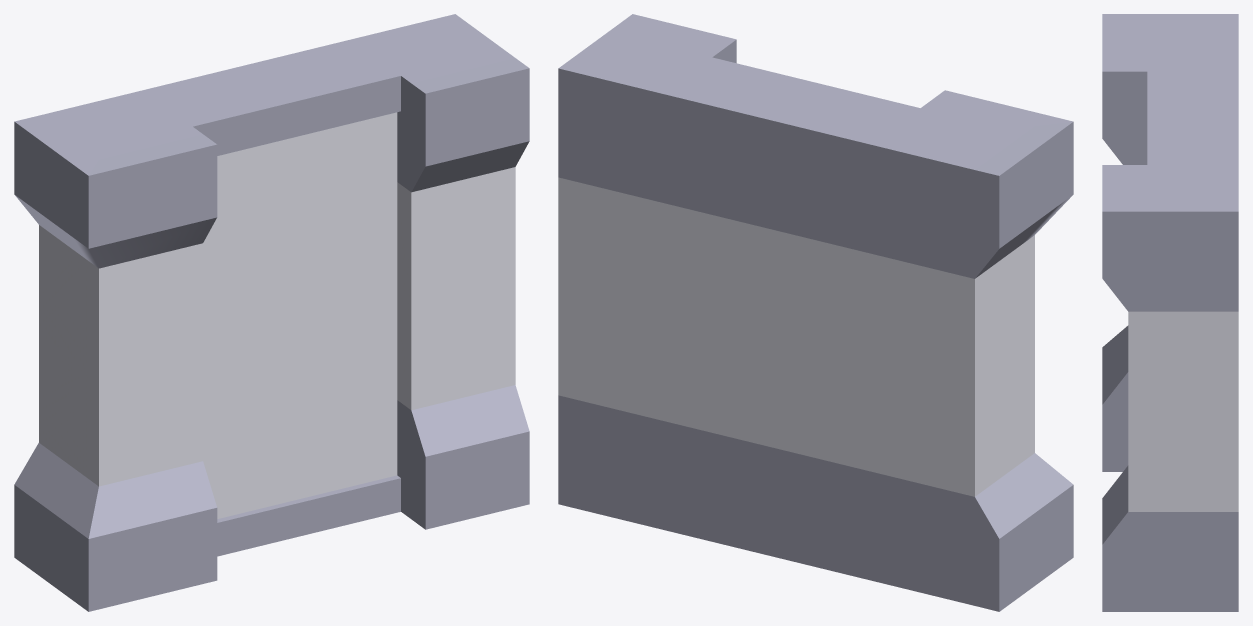
File: Wall_2.fbx
3 views of the same model, side by side, from view 1: azimuth 30°, elevation 25°; view 2: azimuth 150°, elevation 25°; view 3: azimuth 270°, elevation 25° (orthographic). The views are drawn at different scales.
Parts seen in each view (by area): view 1: Wall_2; view 2: Wall_2; view 3: Wall_2.
Boxes of the visible parts, x1,y1,x2,y2 form: Wall_2: [14, 14, 529, 611]; Wall_2: [558, 14, 1073, 611]; Wall_2: [1102, 14, 1238, 611].
Bounding box in the file's own units: 7.2 × 6.8 × 2.1.
